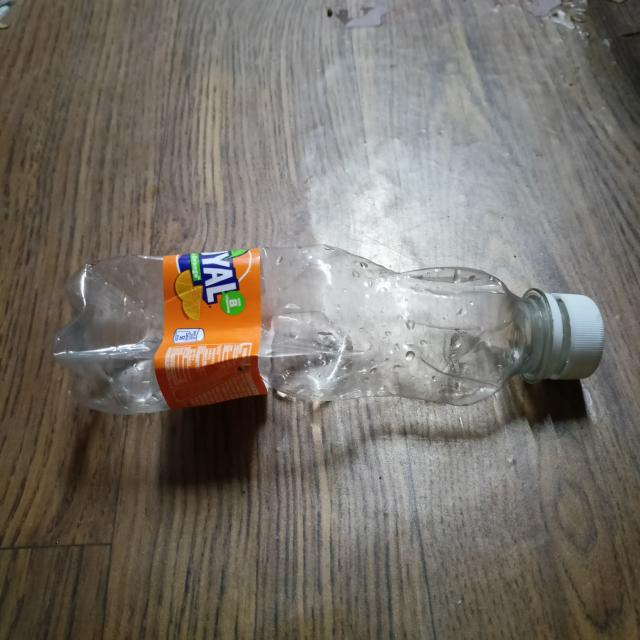Bottle: (52, 246, 605, 415)
